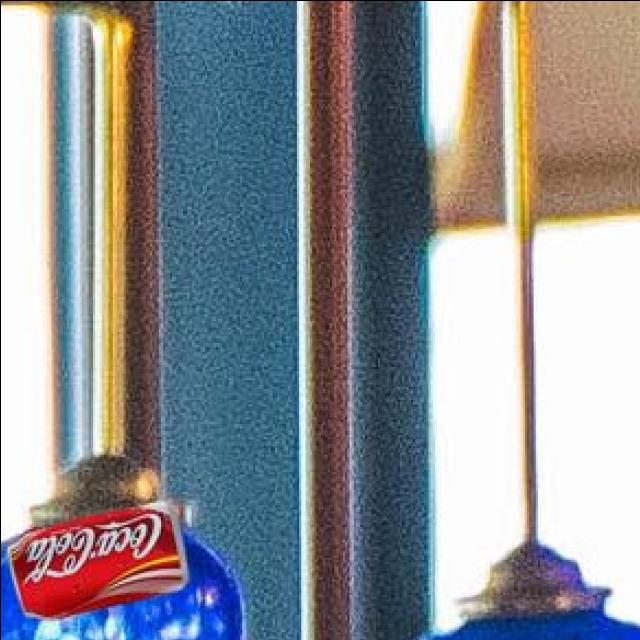logam: (10, 503, 192, 621)
